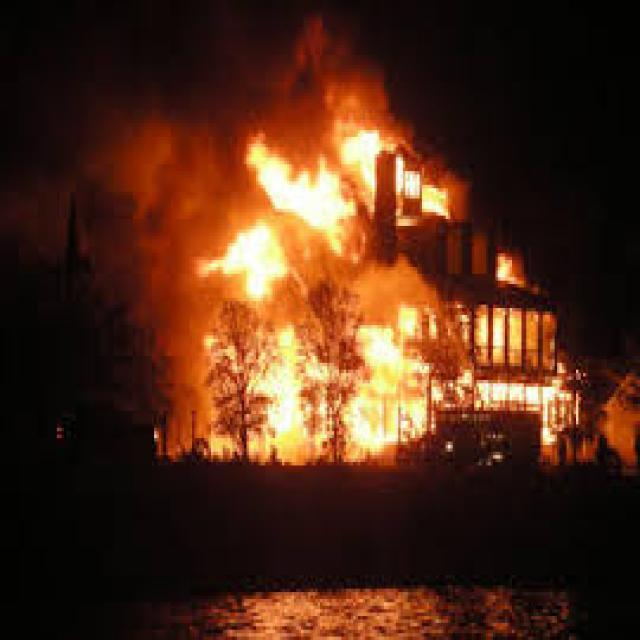Fire: (202, 127, 580, 461)
